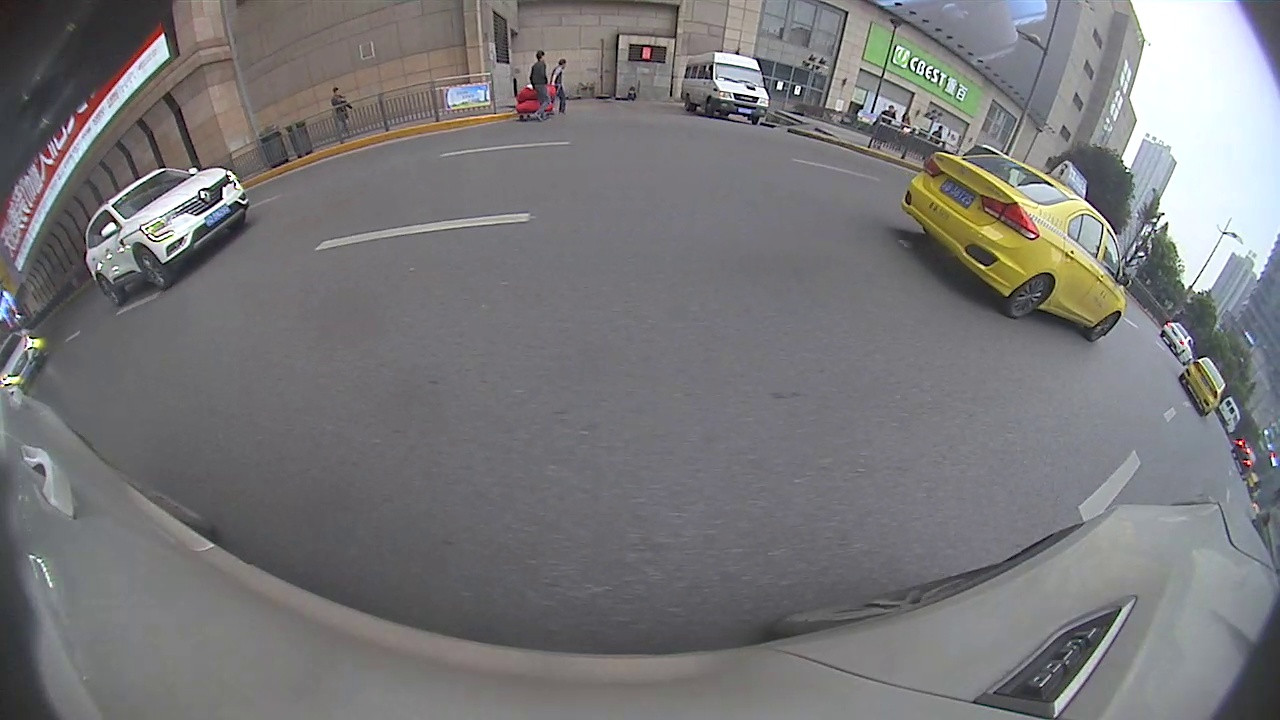car: (901, 142, 1130, 343), (82, 165, 248, 308), (678, 50, 771, 125), (1178, 354, 1229, 421)
front: (128, 247, 171, 292), (1085, 313, 1123, 342), (703, 96, 719, 118)
person: (529, 48, 548, 123), (552, 58, 567, 117), (329, 87, 347, 134)
rear: (1000, 275, 1059, 319), (96, 276, 124, 310), (682, 93, 693, 111)
